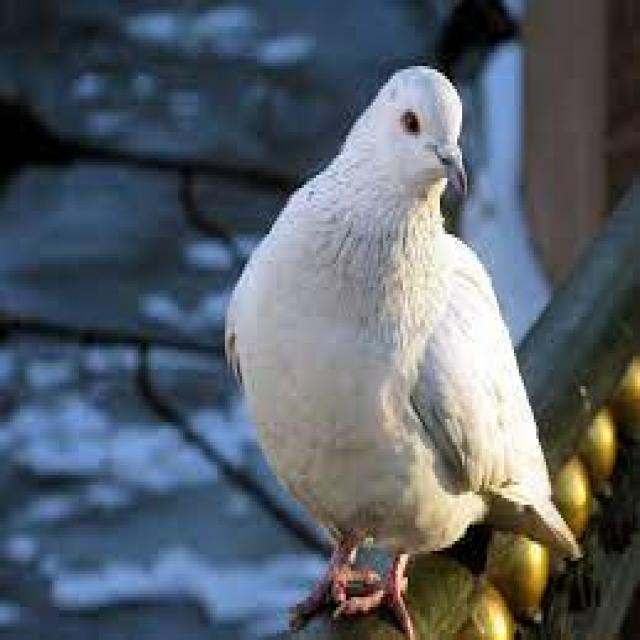bird: (199, 56, 612, 640)
